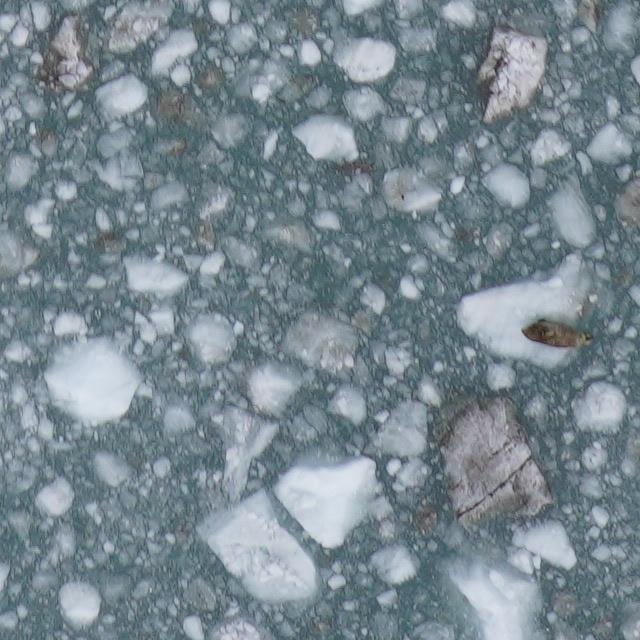seal: (516, 315, 601, 352)
